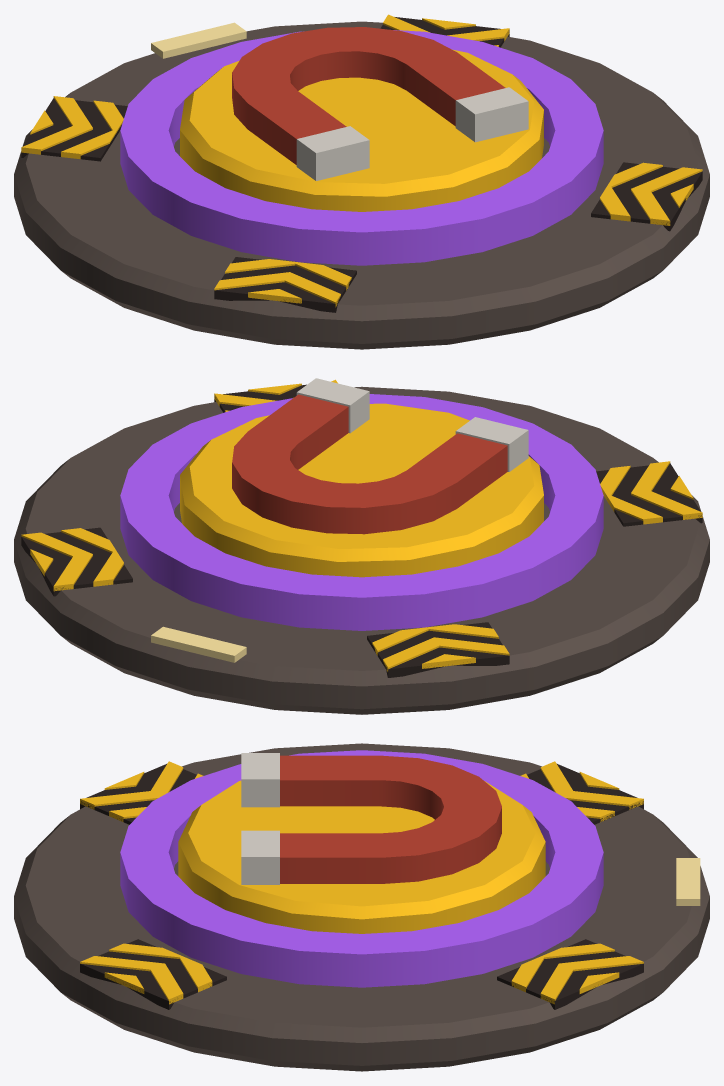
File: trap_magnet__upper.glb
3 views of the same model, one above another, from view 1: azimuth 30°, elevation 25°; view 2: azimuth 150°, elevation 25°; view 3: azimuth 270°, elevation 25° (orthographic).
Visible parts, largest first — view 1: Base, Coil; view 2: Base, Coil; view 3: Base, Coil.
Part boxes in pixels (x1,y1,x2,y2): Base: (14, 14, 709, 349); Coil: (120, 30, 603, 265); Base: (14, 378, 709, 714); Coil: (120, 394, 603, 630); Base: (14, 743, 709, 1071); Coil: (120, 750, 603, 987).
Size of what is drawn, in the model's own units: 0.72 by 0.142 by 0.72.
